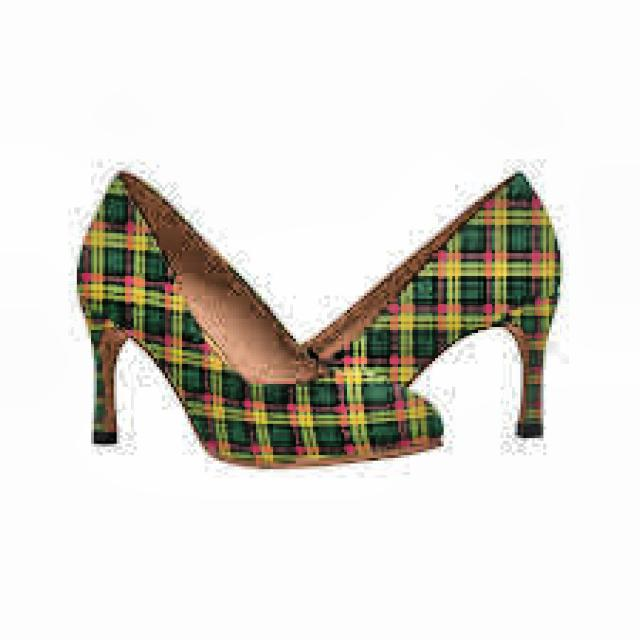shoes: (70, 154, 560, 478)
